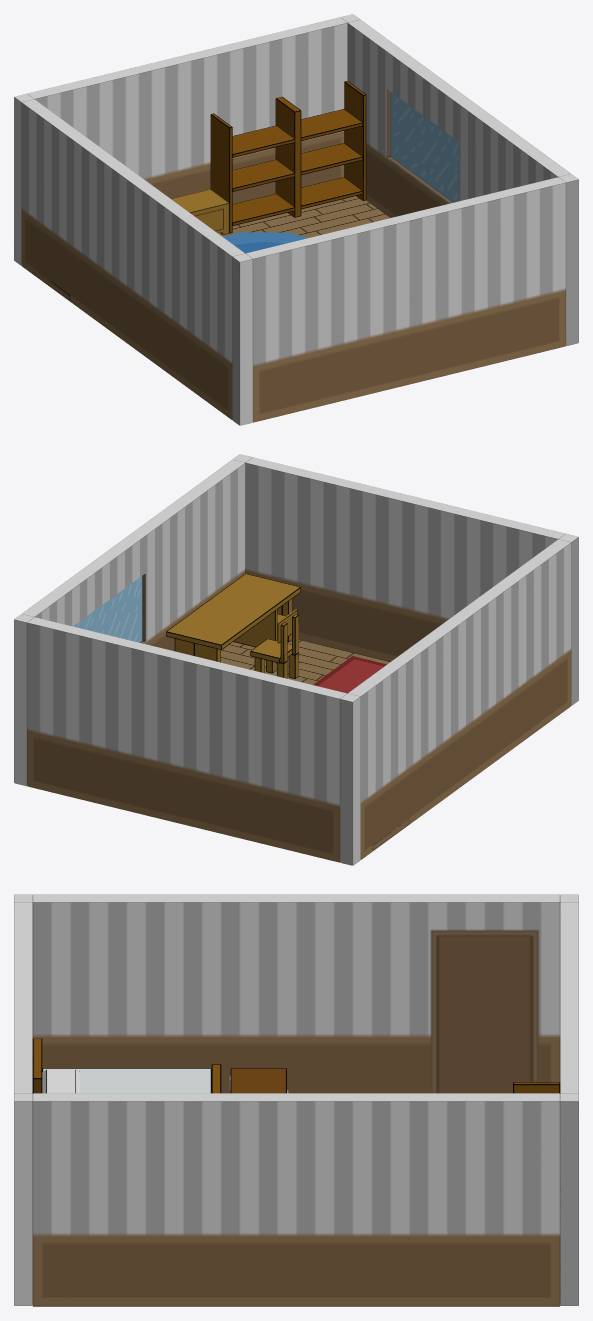
File: bedroom.obj
The picture shows the model from 3 angles, top to bottom: view 1: azimuth 30°, elevation 25°; view 2: azimuth 150°, elevation 25°; view 3: azimuth 270°, elevation 25°; orthographic projection. The views are drawn at different scales.
Visible parts, largest first — view 1: cube, circle; view 2: cube, plane; view 3: cube.
Part boxes in pixels (x1,y1,x2,y2): cube: (14,14,578,425); circle: (223,232,308,253); cube: (14,454,578,865); plane: (313,656,386,693); cube: (14,894,578,1306).
Bounding box in the file's own units: 6.5 × 3.12 × 7.5.
